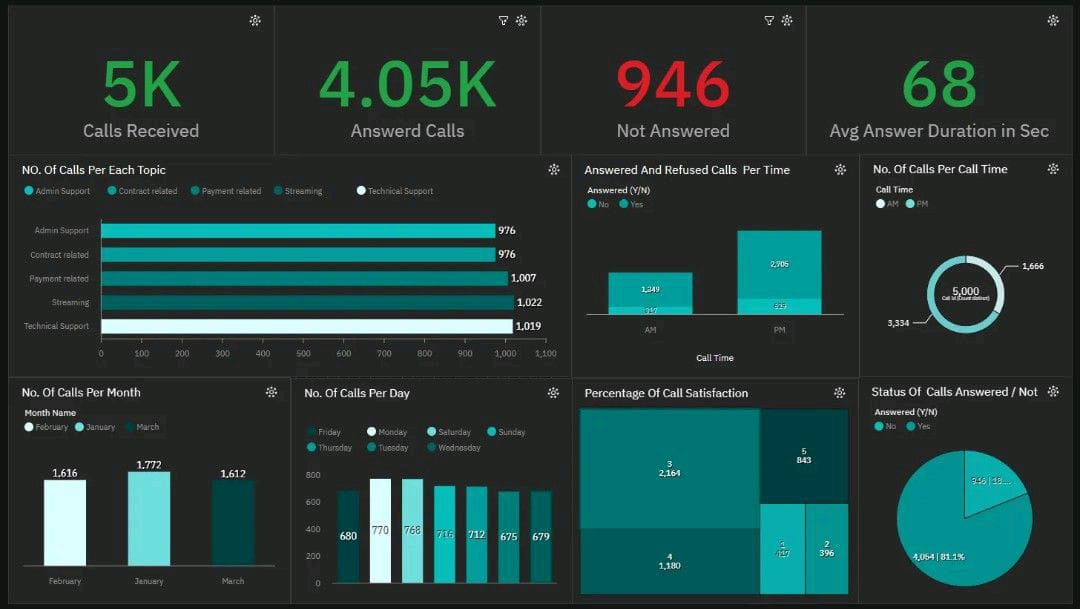

Layout of this report page (visuals, bound fields, positions):
{"tool":"powerbi","page":{"name":"Page 1","canvas":[1280,720],"ordinal":0},"visuals":[{"type":"card","title":"Call Received","fields":{"Values":["Count(Table1_2.Call Id)"]},"box":[13.3,9.6,278.6,136.3],"z":0},{"type":"card","title":"Answered Calls","fields":{"Values":["CountNonNull(Table1_2.Answered (Y/N))"]},"box":[292.3,9.6,279.9,135.8],"z":1000},{"type":"card","title":"Not Answered ","fields":{"Values":["CountNonNull(Table1_2.Answered (Y/N))"]},"box":[571.7,9.6,282.2,136.3],"z":2000},{"type":"card","title":"Avg Answer Duration in sec","fields":{"Values":["Avg(Table1_2.Speed of answer in seconds)"]},"box":[853.9,9.6,288.2,136.3],"z":3000},{"type":"barChart","title":"Count of Calls Per Each Topic","fields":{"Category":["Table1_2.Topic"],"Y":["CountNonNull(Table1_2.Topic)"]},"box":[13.3,145.9,558.4,300.3],"z":4000},{"type":"columnChart","fields":{"Category":["Table1_2.Call Time"],"Y":["CountNonNull(Table1_2.Answered (Y/N))"],"Series":["Table1_2.Answered (Y/N)"]},"box":[571.7,145.9,570.5,299.1],"z":5000},{"type":"clusteredColumnChart","fields":{"Category":["Table1_2.Month Name"],"Y":["CountNonNull(Table1_2.Month Name)"]},"box":[13.3,446.2,558.4,264.1],"z":6000},{"type":"clusteredColumnChart","fields":{"Category":["Table1_2.Day Name"],"Y":["CountNonNull(Table1_2.Day Name)"]},"box":[571.7,445,570.5,265.3],"z":7000}]}

Visuals, with their boxes in screenshot pixels (x1, y1, x2, y2), scaled from the page's 1280x720 canvas onto the 1080x609 screenshot:
"Call Received" card: rect(11, 8, 246, 123)
"Answered Calls" card: rect(247, 8, 483, 123)
"Not Answered " card: rect(482, 8, 720, 123)
"Avg Answer Duration in sec" card: rect(720, 8, 964, 123)
"Count of Calls Per Each Topic" barChart: rect(11, 123, 482, 377)
columnChart - Table1_2.Call Time x CountNonNull(Table1_2.Answered (Y/N)): rect(482, 123, 964, 376)
clusteredColumnChart - Table1_2.Month Name x CountNonNull(Table1_2.Month Name): rect(11, 377, 482, 601)
clusteredColumnChart - Table1_2.Day Name x CountNonNull(Table1_2.Day Name): rect(482, 376, 964, 601)
